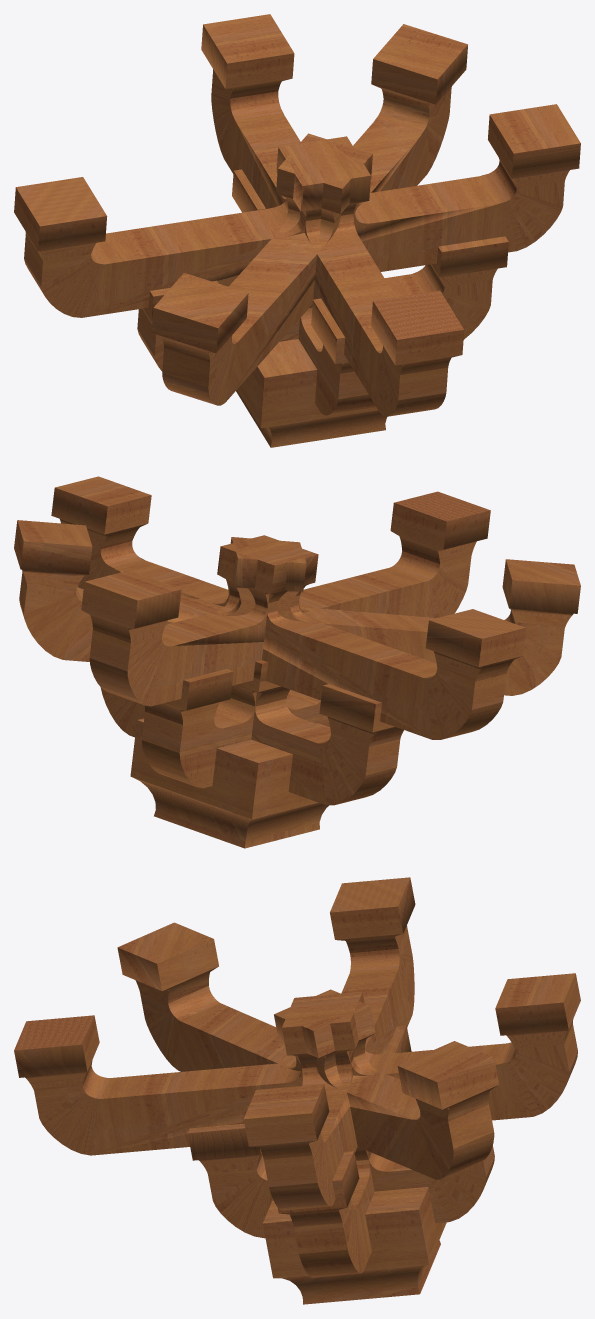
3 views of the same model, one above another, from view 1: azimuth 30°, elevation 25°; view 2: azimuth 150°, elevation 25°; view 3: azimuth 270°, elevation 25° (orthographic). The views are drawn at different scales.
Visible parts, largest first — view 1: samor_4136_6167, samor_4136_6168, samor_4136_6169, samor_4136_6166, samor_4136_6172, samor_4136_6170, samor_4136_6171; view 2: samor_4136_6169, samor_4136_6167, samor_4136_6168, samor_4136_6166, samor_4136_6172, samor_4136_6170, samor_4136_6171; view 3: samor_4136_6169, samor_4136_6168, samor_4136_6167, samor_4136_6172, samor_4136_6166, samor_4136_6170, samor_4136_6171.
Boxes of the visible parts, bbox=[...] form: samor_4136_6167: bbox=[14, 104, 580, 317]; samor_4136_6168: bbox=[151, 24, 467, 405]; samor_4136_6169: bbox=[201, 14, 464, 416]; samor_4136_6166: bbox=[137, 236, 508, 371]; samor_4136_6172: bbox=[232, 169, 376, 415]; samor_4136_6170: bbox=[237, 339, 377, 428]; samor_4136_6171: bbox=[236, 390, 387, 447]; samor_4136_6169: bbox=[81, 491, 490, 706]; samor_4136_6167: bbox=[51, 476, 525, 739]; samor_4136_6168: bbox=[14, 520, 580, 695]; samor_4136_6166: bbox=[100, 660, 403, 805]; samor_4136_6172: bbox=[141, 662, 329, 788]; samor_4136_6170: bbox=[130, 718, 330, 819]; samor_4136_6171: bbox=[132, 777, 328, 848]; samor_4136_6169: bbox=[14, 973, 580, 1155]; samor_4136_6168: bbox=[117, 922, 499, 1179]; samor_4136_6167: bbox=[243, 877, 415, 1210]; samor_4136_6172: bbox=[187, 1123, 494, 1238]; samor_4136_6166: bbox=[278, 1025, 411, 1277]; samor_4136_6170: bbox=[262, 1187, 446, 1278]; samor_4136_6171: bbox=[274, 1240, 440, 1304].
Size of the model in its own units: 48.58 by 29.11 by 48.24.
1 material, 1 textured.
